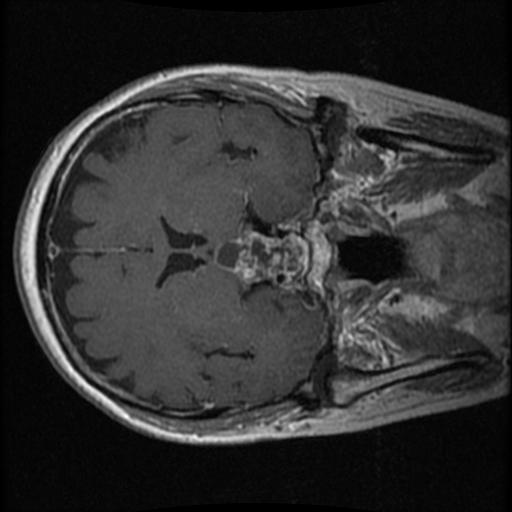pituitary tumour: (212, 231, 306, 287)
